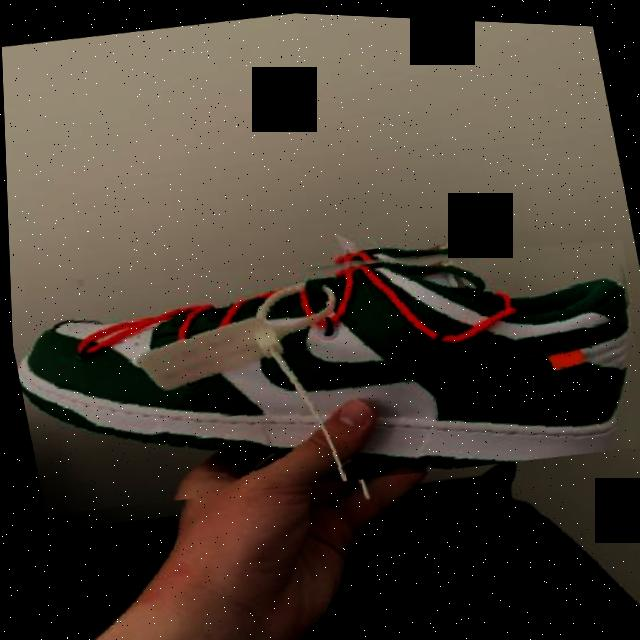shoe: (6, 190, 640, 536)
